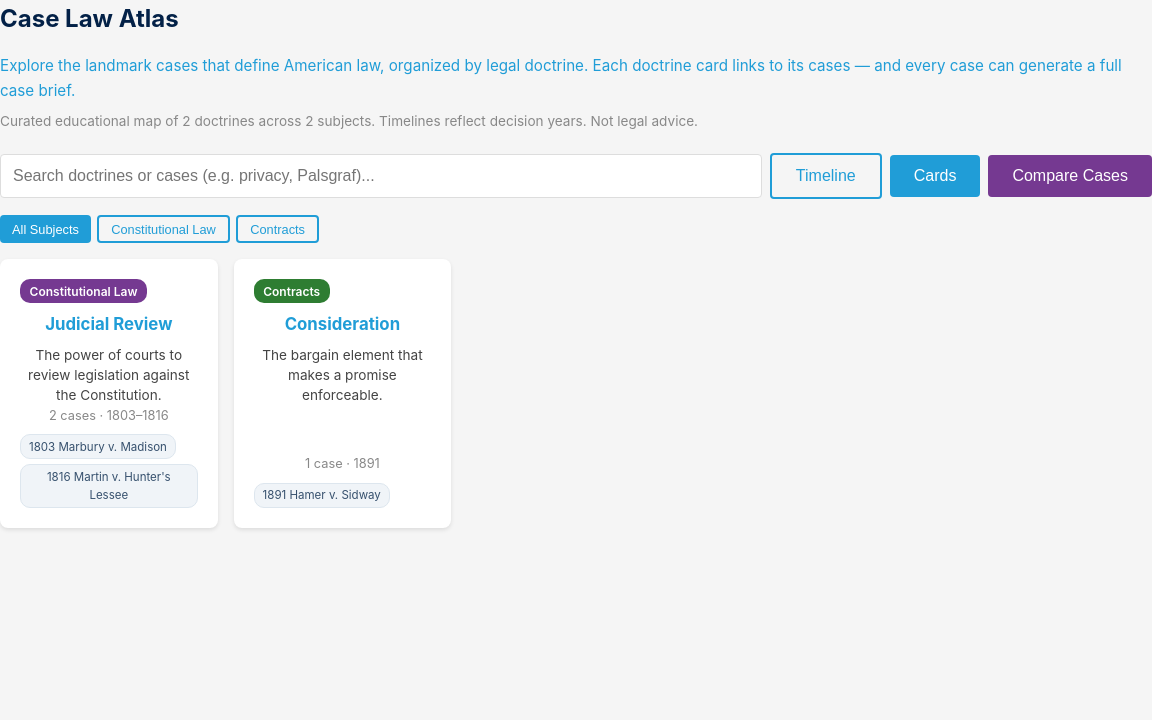
Test: DoctrineExplorerView › switches to the timeline view with era groups
This screenshot has width=1152, height=720.
Click the button "Timeline" at (826, 176), box 770,153 -> 882,199
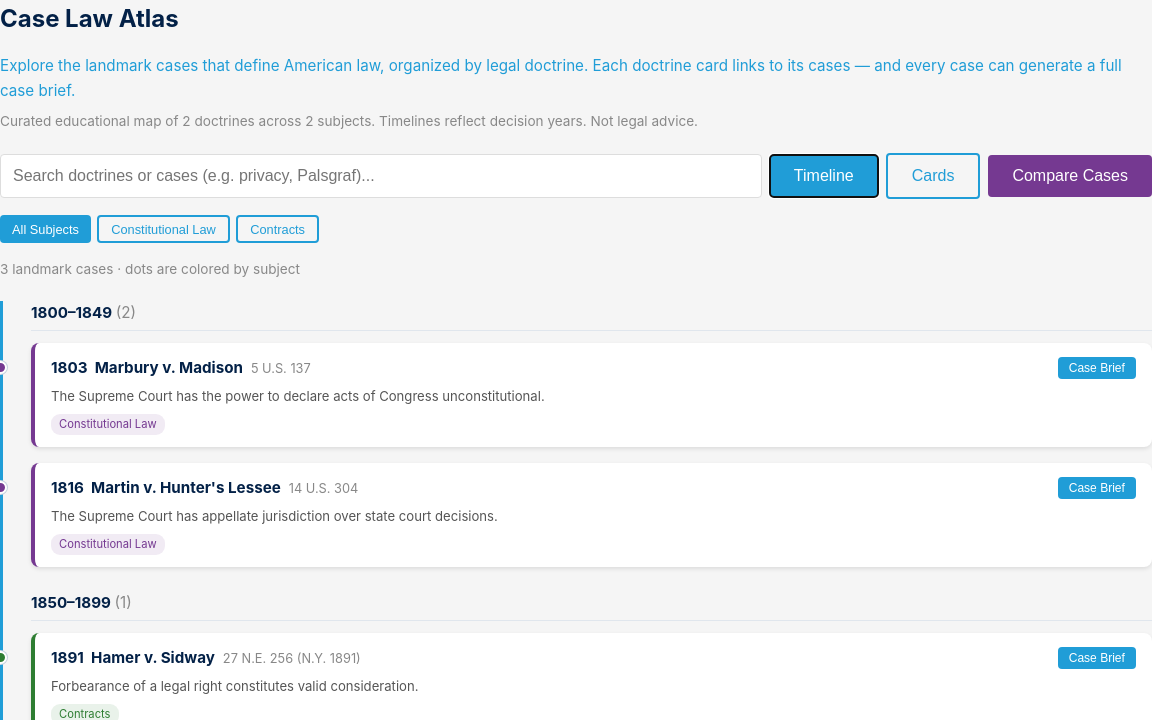
Expected: the text "1803 Marbury v. Madison" is shown, 51,358 -> 243,377
Expected: the heading "1800–1849 (2)" is shown, 31,301 -> 1151,331
Expected: the text "3 landmark cases · dots are colored by subject" is shown, 0,261 -> 300,277
